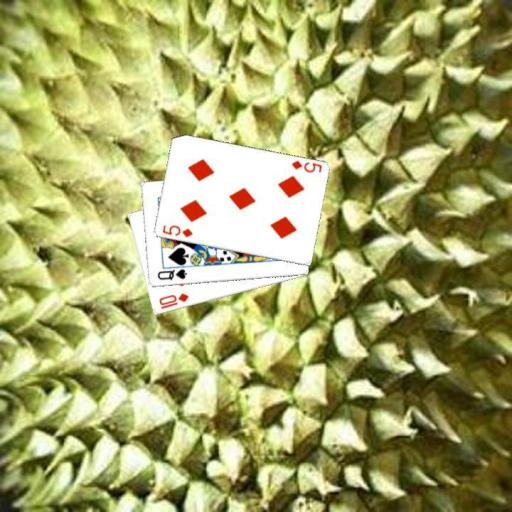10D: (156, 290, 190, 311)
5D: (159, 222, 194, 239), (288, 157, 323, 174)
QS: (155, 266, 189, 282)
